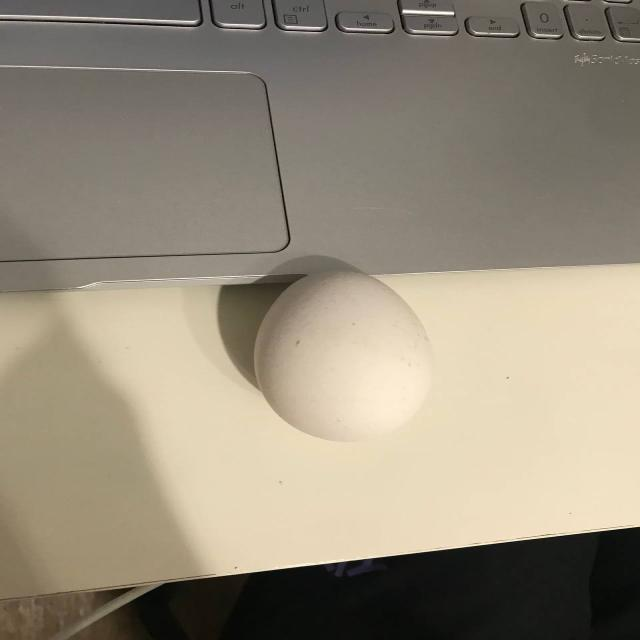egg: (255, 271, 434, 443)
